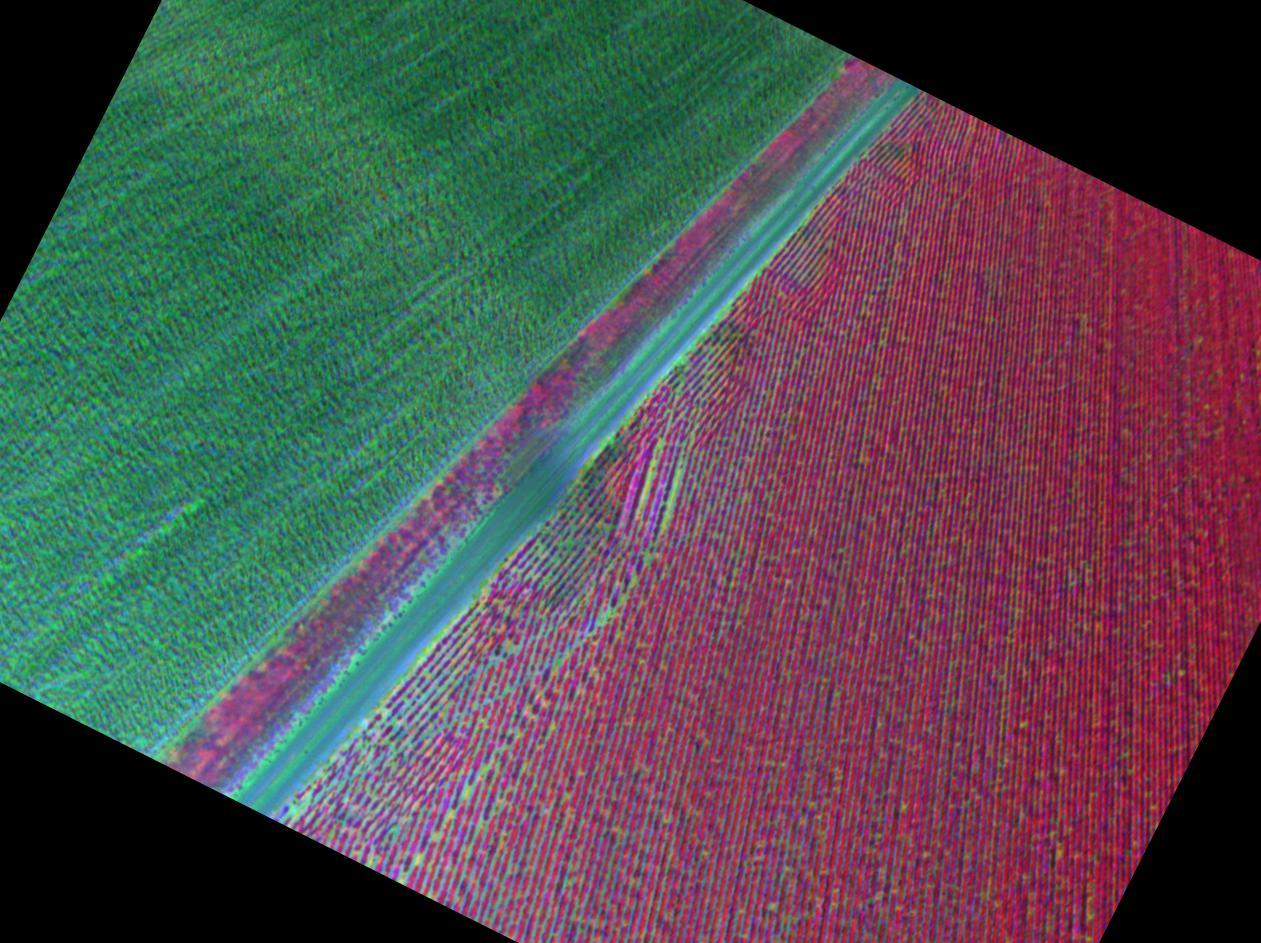dc: (668, 500, 675, 506), (464, 788, 470, 794)
